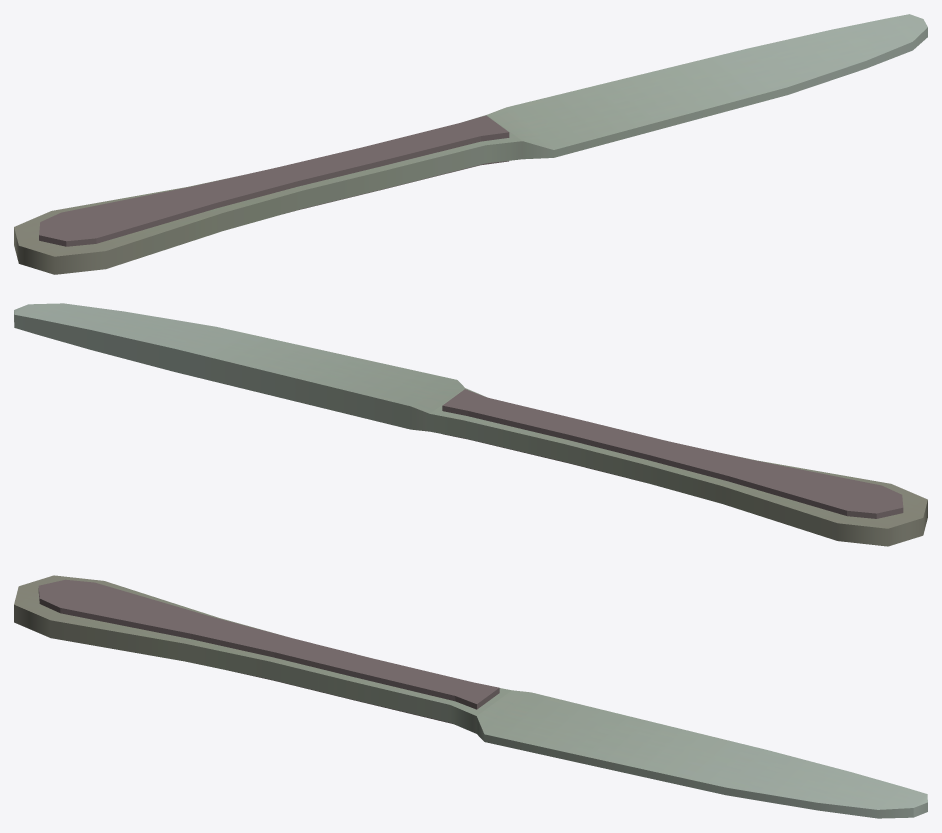
The model's file is SM_knife_1_01.fbx.
3 renders of one model, top to bottom at view 1: azimuth 30°, elevation 25°; view 2: azimuth 150°, elevation 25°; view 3: azimuth 330°, elevation 25°, orthographic.
Visible parts, largest first — view 1: SM_knife_1_01; view 2: SM_knife_1_01; view 3: SM_knife_1_01.
Boxes of the visible parts, x1,y1,x2,y2 form: SM_knife_1_01: (14, 14, 927, 274); SM_knife_1_01: (14, 303, 927, 546); SM_knife_1_01: (14, 575, 927, 818).
Bounding box in the file's own units: 25.45 × 0.7756 × 2.79.
